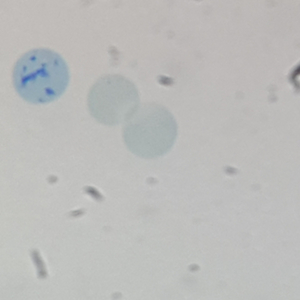aggregate reticulocyte: (9, 46, 73, 106)
erythrocyte: (119, 98, 179, 160)
punctate reticulocyte: (84, 73, 142, 129)
